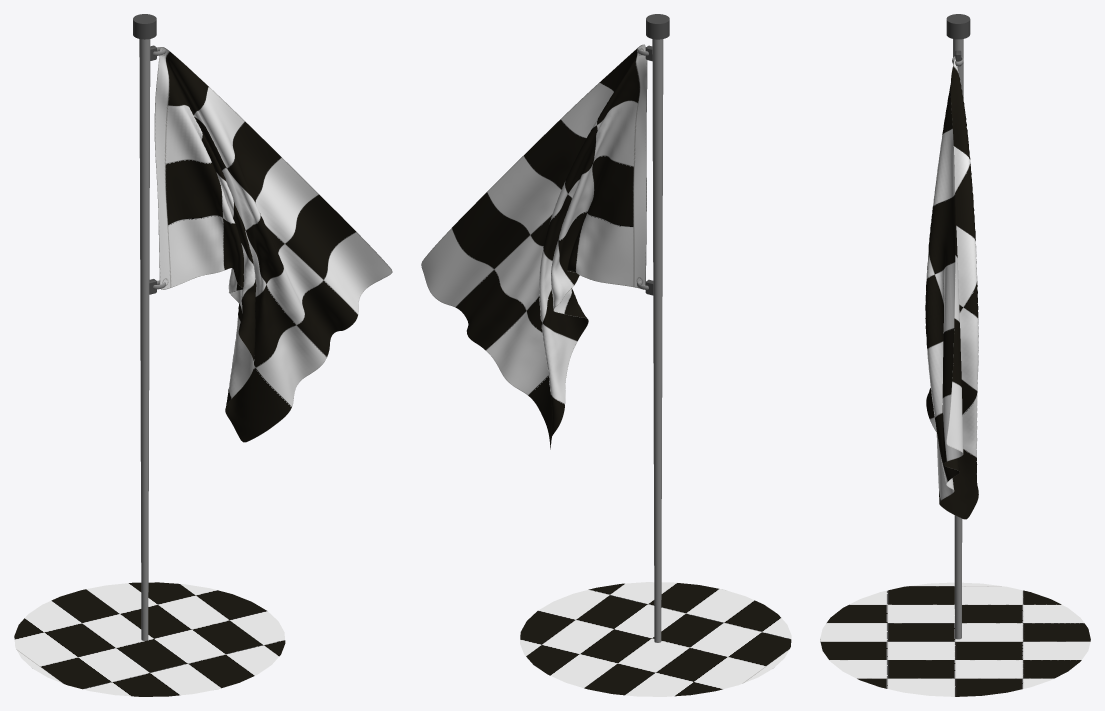
File: flag.fbx
3 renders of one model, left to right at view 1: azimuth 30°, elevation 25°; view 2: azimuth 150°, elevation 25°; view 3: azimuth 270°, elevation 25°, orthographic.
Visible parts, largest first — view 1: Plane, Circle.001, Circle; view 2: Plane, Circle.001, Circle; view 3: Circle.001, Plane, Circle.
Boxes of the visible parts, left/top/right/bottom form: Plane: left=154, top=47, right=392, bottom=442; Circle.001: left=14, top=582, right=285, bottom=696; Circle: left=133, top=14, right=165, bottom=640; Plane: left=421, top=44, right=647, bottom=449; Circle.001: left=520, top=582, right=791, bottom=696; Circle: left=637, top=14, right=669, bottom=642; Circle.001: left=820, top=582, right=1090, bottom=696; Plane: left=925, top=57, right=978, bottom=519; Circle: left=946, top=14, right=970, bottom=639.
Bounding box in the file's own units: 303 × 200 × 518.
